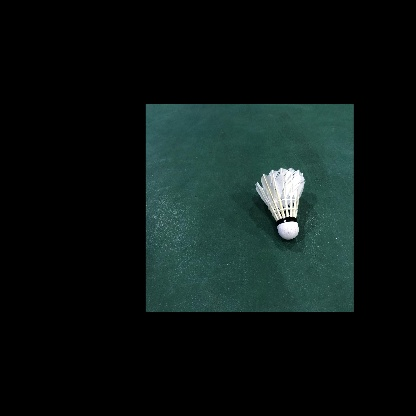ball_single: (255, 167, 305, 240)
